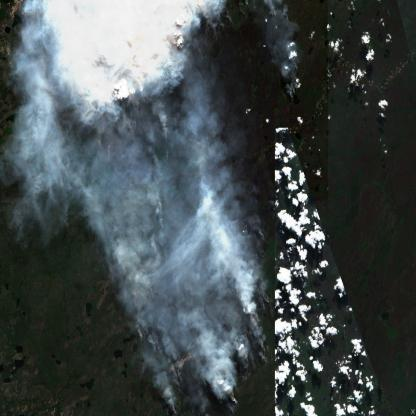fire: (82, 0, 275, 416)
